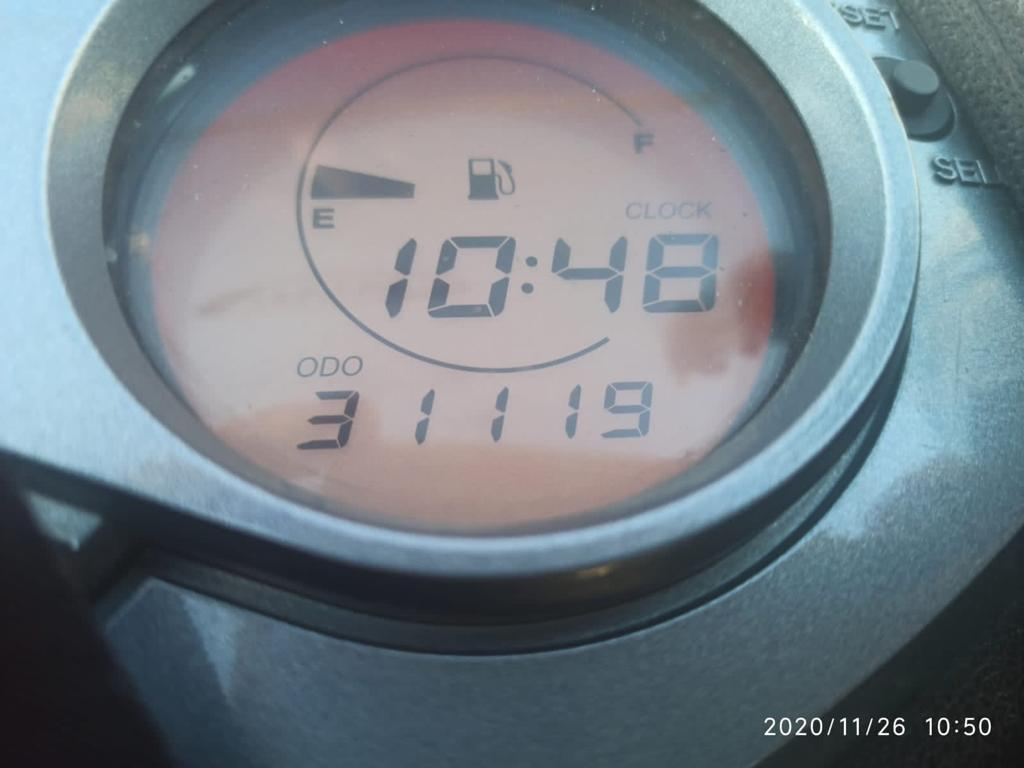0: (426, 234, 515, 318)
1: (382, 237, 418, 318), (413, 388, 436, 447), (489, 386, 509, 443), (563, 384, 582, 440)
3: (294, 388, 361, 452)
4: (549, 235, 628, 315)
8: (640, 232, 719, 314)
9: (600, 380, 653, 438)
X: (519, 254, 540, 296), (630, 130, 659, 155), (310, 205, 337, 230), (340, 353, 363, 377), (295, 355, 318, 378), (318, 354, 340, 378), (623, 200, 643, 220), (677, 201, 695, 218), (696, 200, 713, 218), (658, 201, 675, 218), (644, 201, 656, 219)
odometer: (78, 15, 854, 556)
